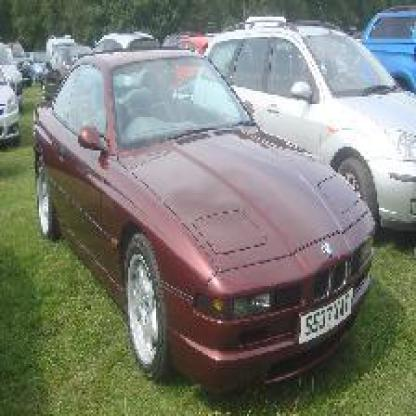not_emergency: (26, 46, 377, 370)
